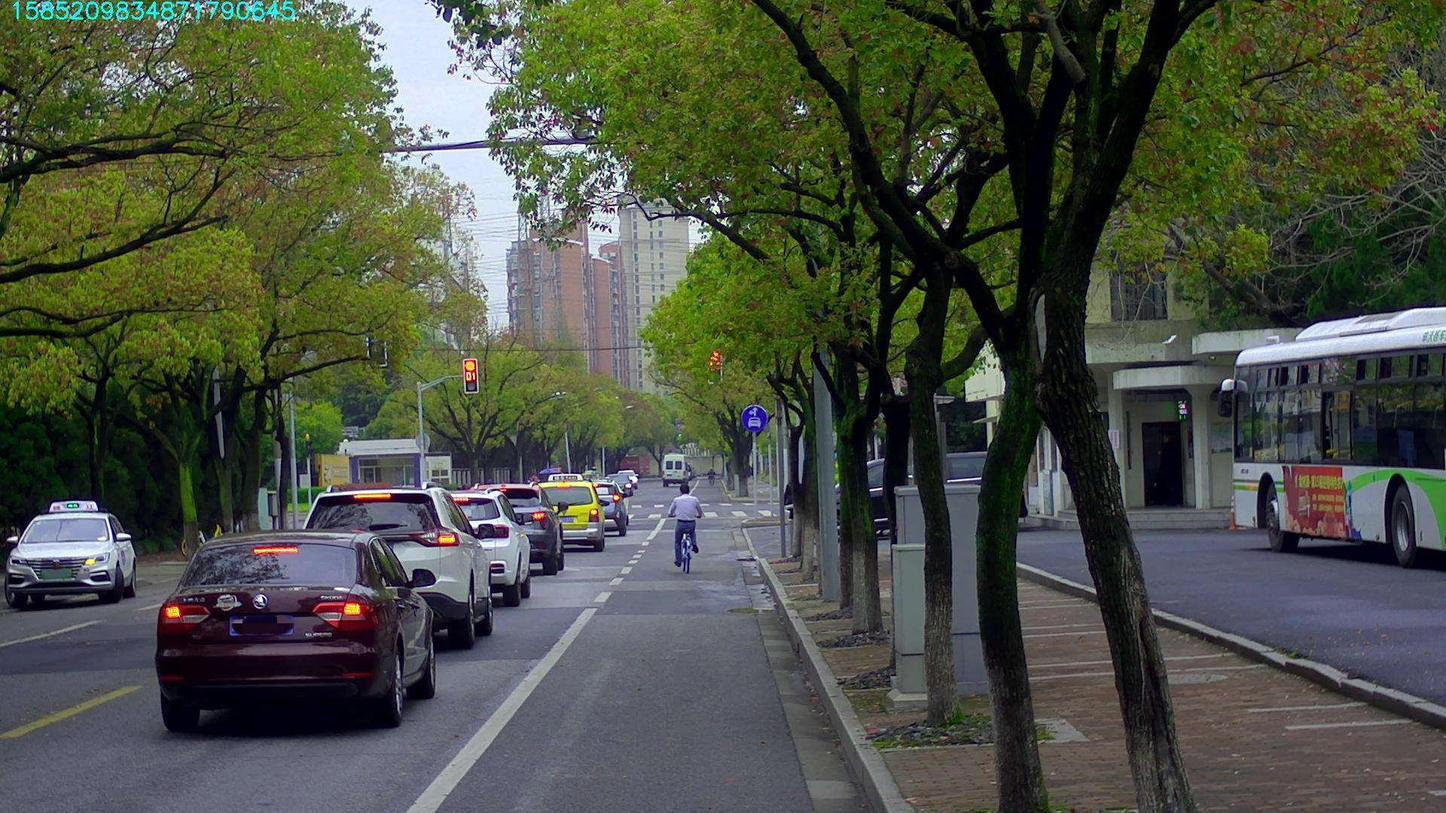red: (463, 358, 477, 392), (707, 351, 722, 382)
